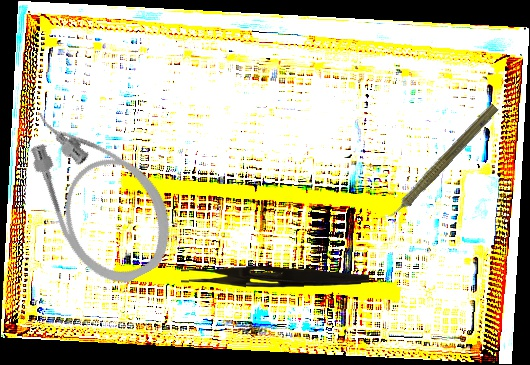Cannula: (6, 80, 191, 300)
Dressing Forceps: (180, 264, 370, 290)
Handpiece: (378, 98, 501, 229)
